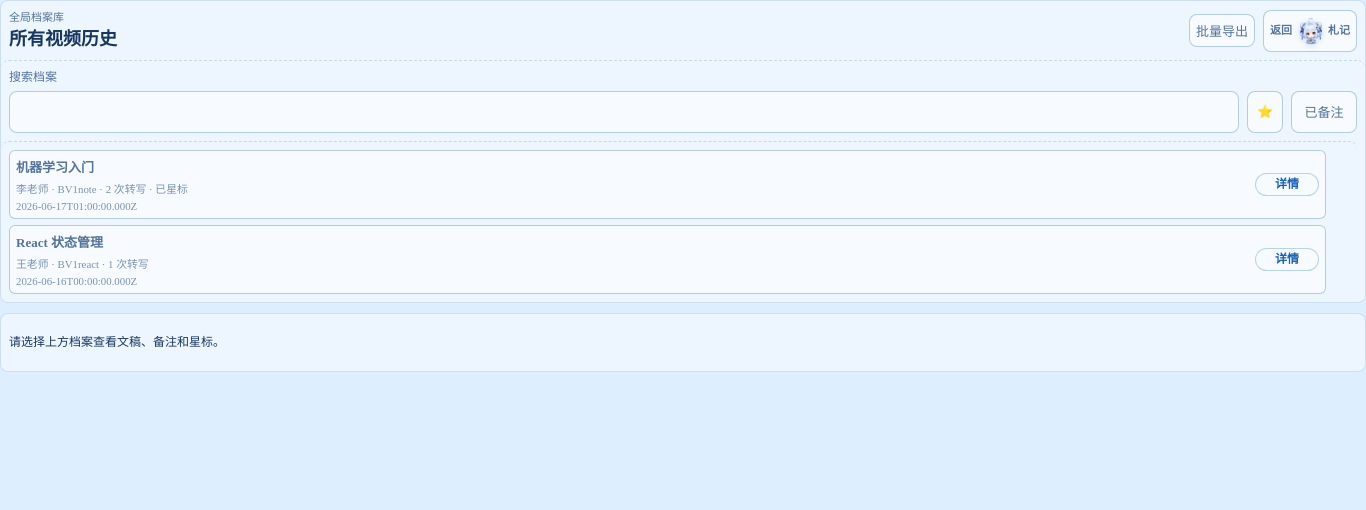
Test: VideoNoteArchivePanel › shows archive detail below the list only after a video is selected
Expected: the list named "视频列表" is shown, [1,141,1357,294]
Click the button "机器学习入门" at (55, 167), box [9,150,1326,219]
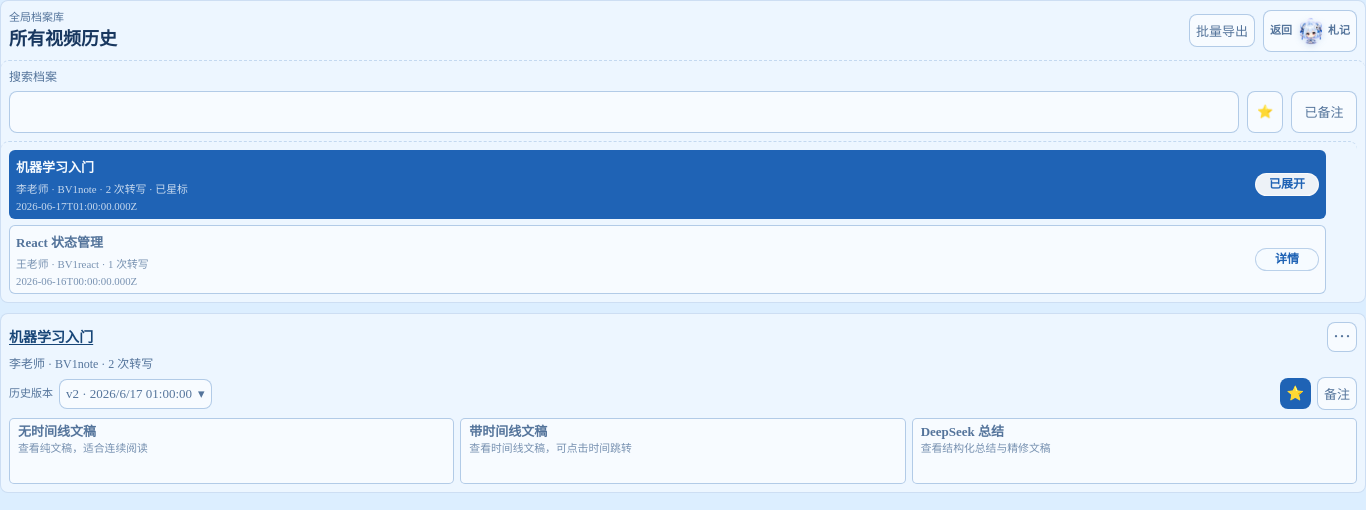
Expected: the element "机器学习入门" is shown, [0,313,1365,493]
Expected: the element named "档案文稿" is shown, [9,418,1357,484]
Expected: the tab "无时间线文稿 查看纯文稿，适合连续阅读" is shown, [9,418,454,484]
